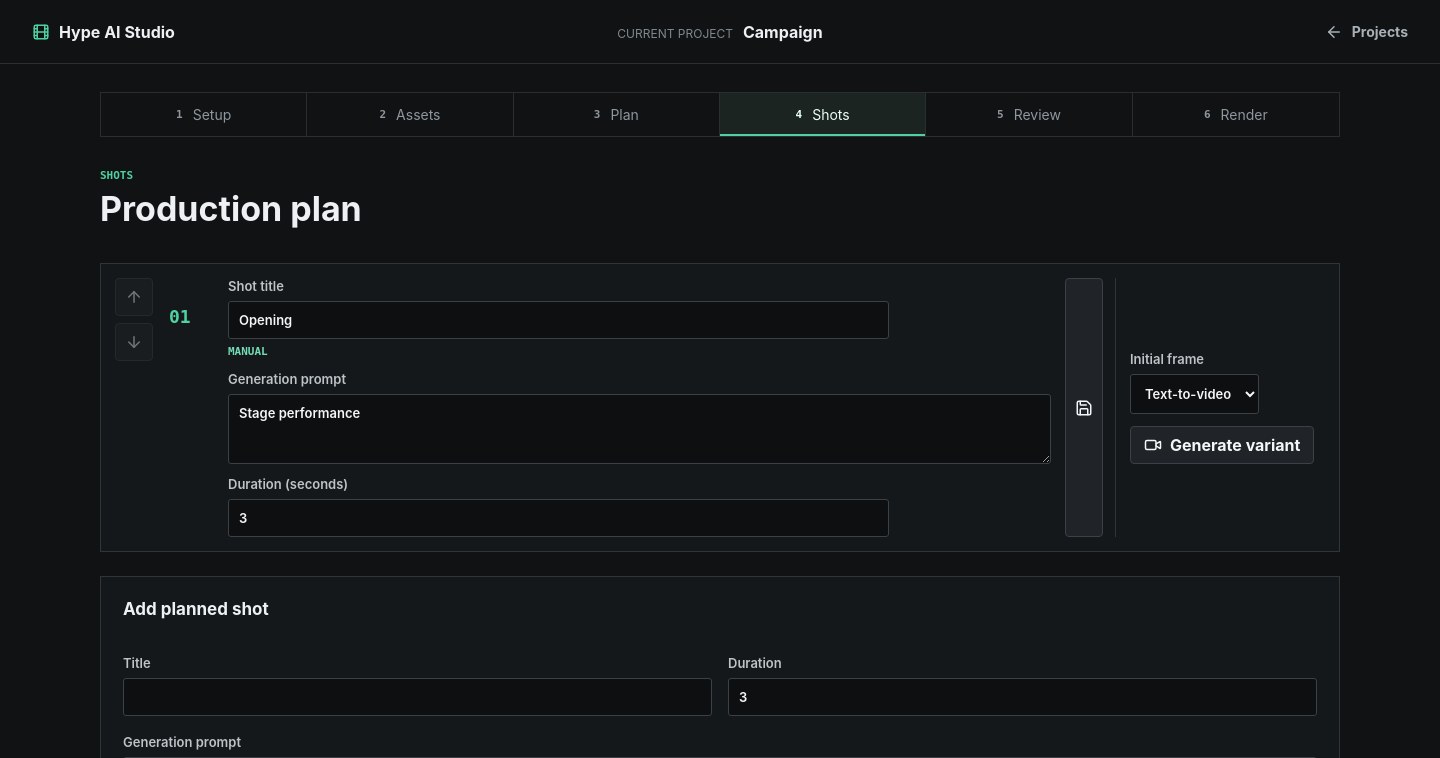
Scenario: producer UI › selects one reference and blocks incomplete likeness consent
The image size is (1440, 758).
Select "performer.jpg" in the dropdown named "Reference image for shot 1": (1194, 394) [1130,374,1259,414]
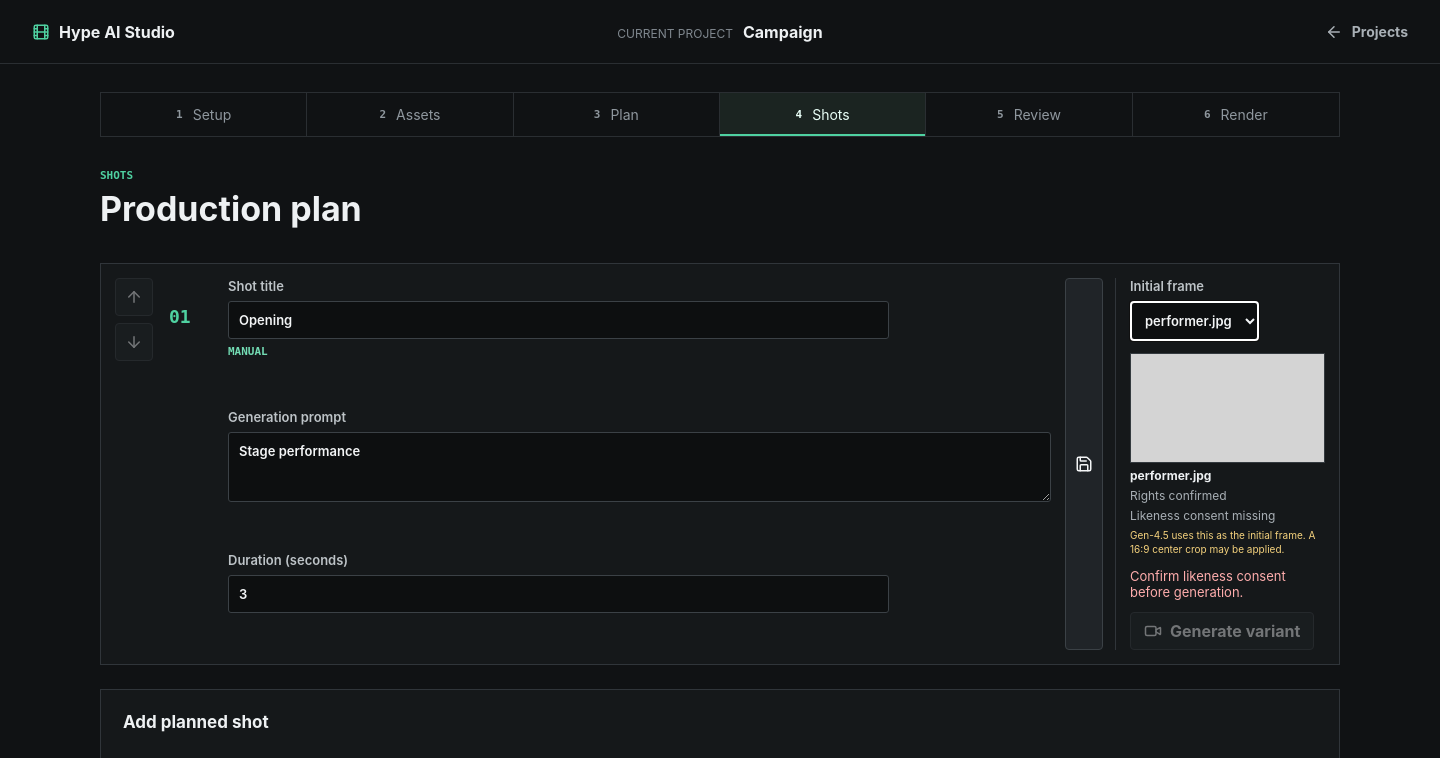
Check: the text "Likeness consent missing" is shown, box [1130,508,1275,523]
Check: the text "16:9 center crop may be applied" is shown, box [1130,529,1315,555]
Check: the button "Generate variant" is disabled, box [1130,612,1314,650]
